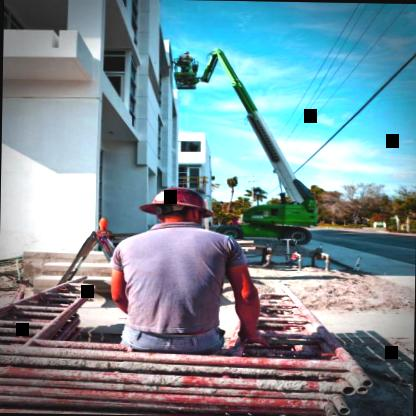helmet: (138, 182, 218, 232)
